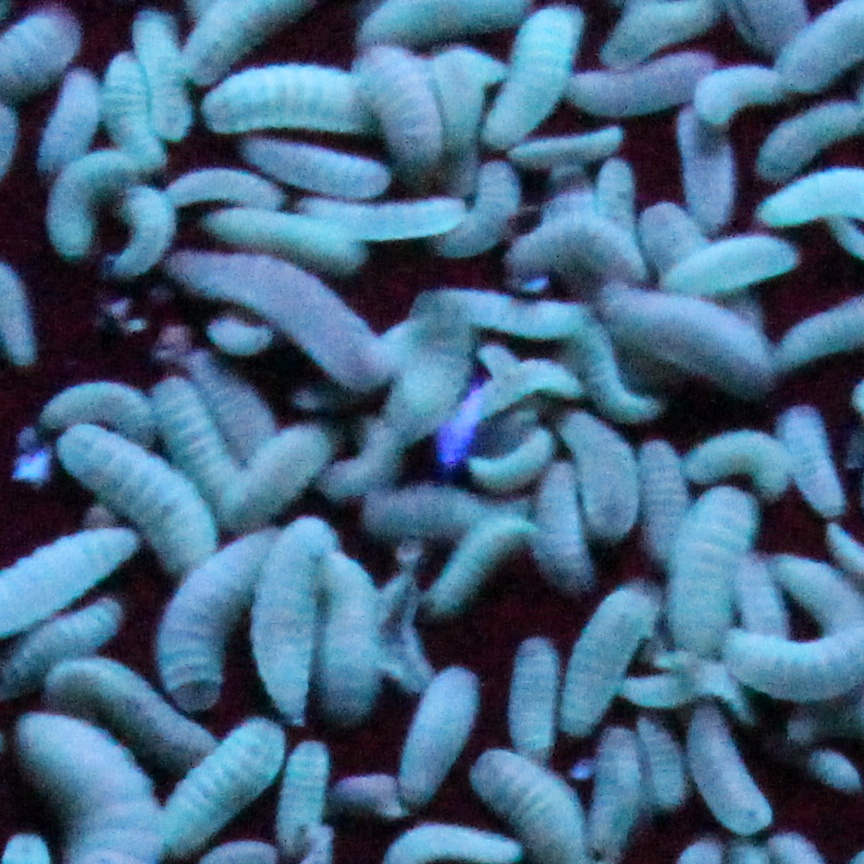larve: (170, 251, 390, 387), (51, 429, 221, 572), (157, 524, 283, 710), (592, 282, 780, 396), (661, 494, 761, 655), (561, 584, 663, 739), (256, 522, 330, 731), (485, 6, 592, 144), (226, 420, 351, 520), (359, 50, 449, 186), (392, 672, 483, 805), (199, 67, 370, 134), (211, 210, 375, 275), (156, 375, 235, 505), (690, 706, 773, 829), (432, 513, 533, 613), (564, 410, 637, 541), (659, 231, 802, 296), (326, 551, 378, 722), (101, 50, 171, 177), (425, 286, 599, 337), (49, 151, 137, 250), (509, 220, 649, 281), (307, 191, 470, 243), (570, 53, 714, 110), (133, 18, 199, 141), (528, 465, 592, 589), (42, 381, 164, 443), (676, 101, 732, 229), (782, 408, 847, 517), (689, 434, 792, 498), (320, 417, 399, 496), (463, 424, 557, 487), (37, 72, 97, 168), (511, 636, 556, 763), (287, 736, 332, 858), (699, 65, 789, 124), (511, 125, 632, 162), (168, 170, 282, 208), (201, 312, 271, 363)
